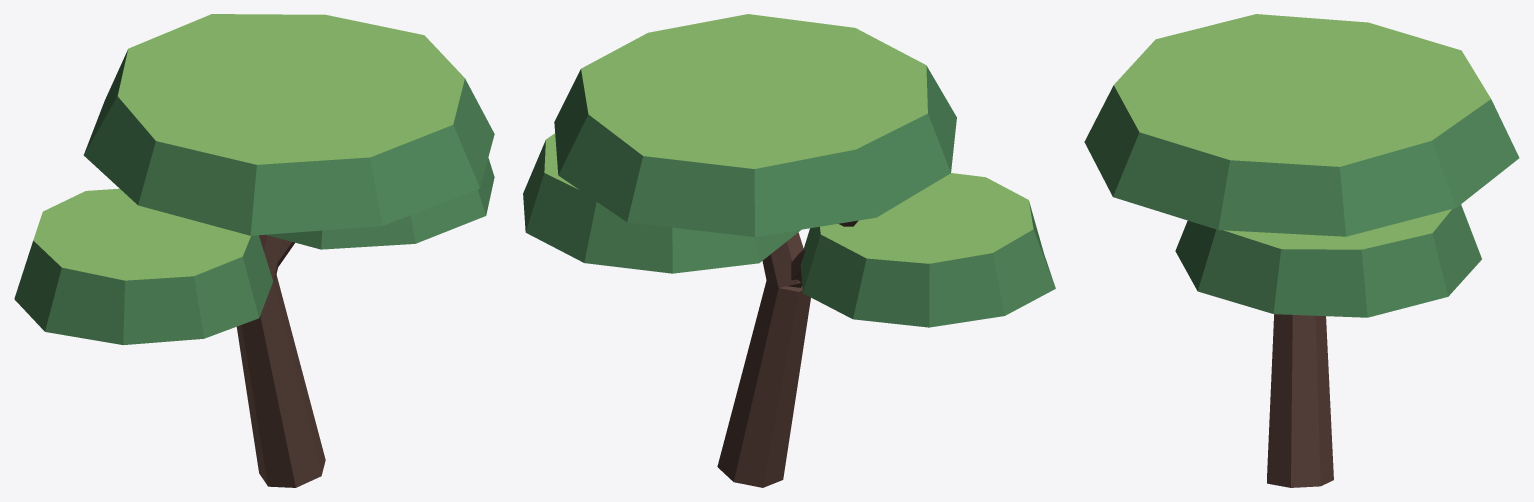
Rendered from tree_acacia_b.glb.
3 renders of one model, left to right at view 1: azimuth 30°, elevation 25°; view 2: azimuth 150°, elevation 25°; view 3: azimuth 270°, elevation 25°, orthographic. The views are drawn at different scales.
Parts seen in each view (by area): view 1: tree_acacia_b; view 2: tree_acacia_b; view 3: tree_acacia_b.
Boxes of the visible parts, <box> form: tree_acacia_b: <box>14,14,494,487</box>; tree_acacia_b: <box>523,14,1055,487</box>; tree_acacia_b: <box>1084,14,1519,487</box>.
Bounding box in the file's own units: 8.66 × 6.79 × 6.79.
